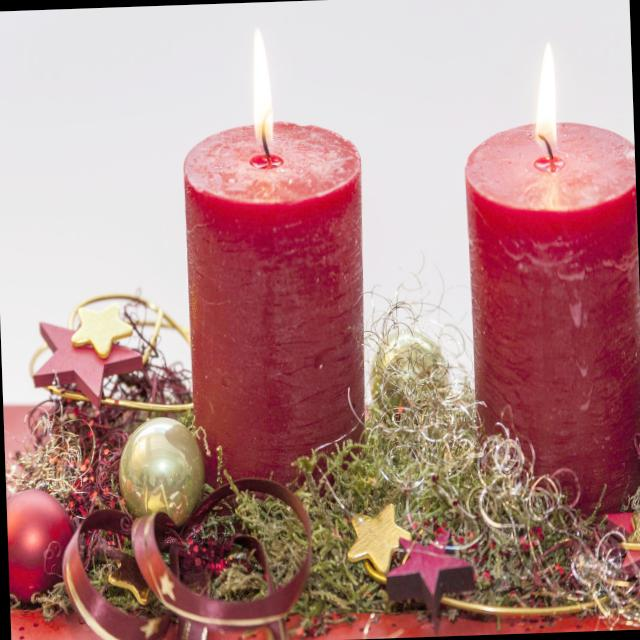Fire_Save: (177, 22, 373, 502), (459, 38, 640, 527)
